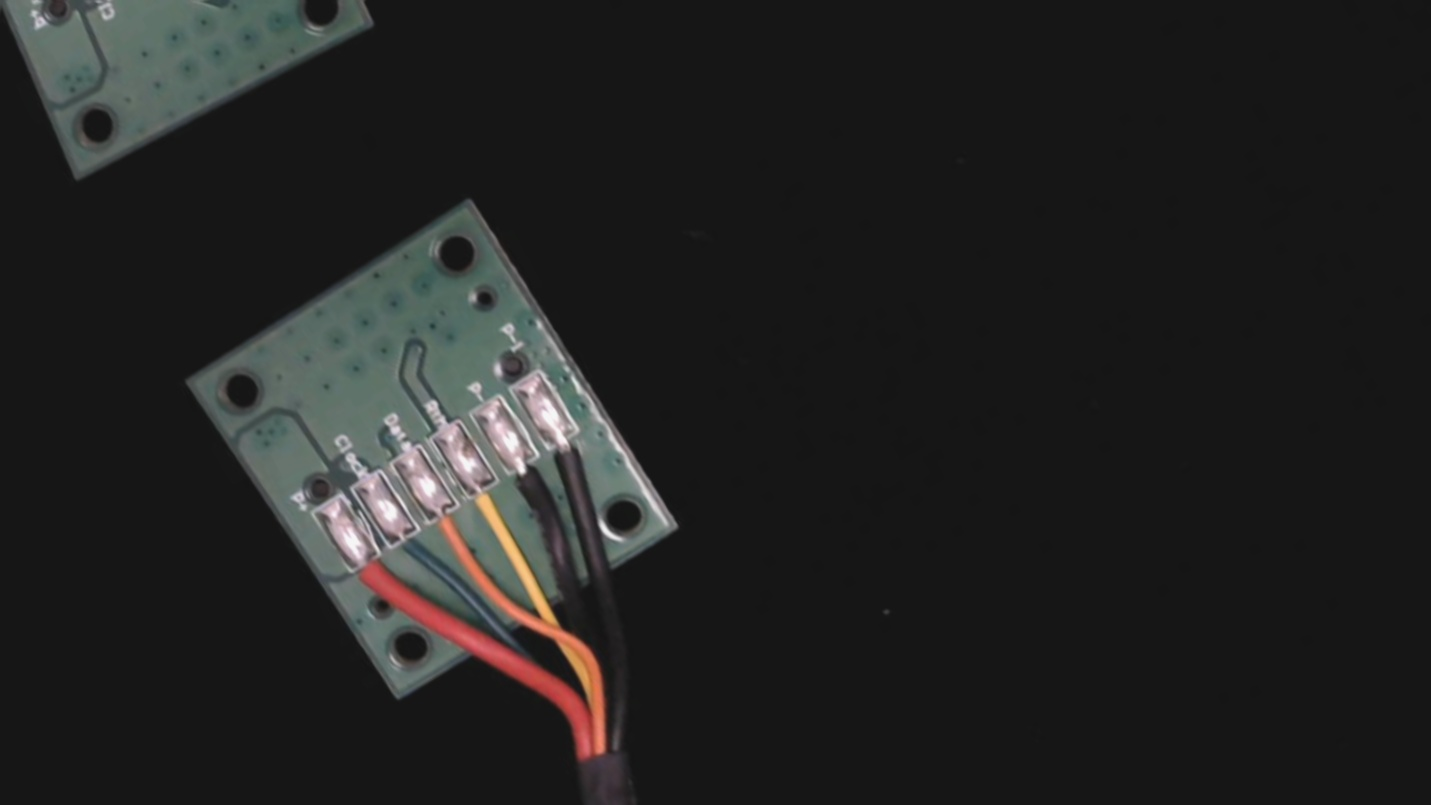Black: (493, 441, 572, 529)
Black1: (533, 416, 611, 501)
Green: (373, 512, 447, 590)
Orange: (415, 492, 479, 558)
Red: (338, 539, 413, 620)
Yellow: (448, 464, 529, 550)
